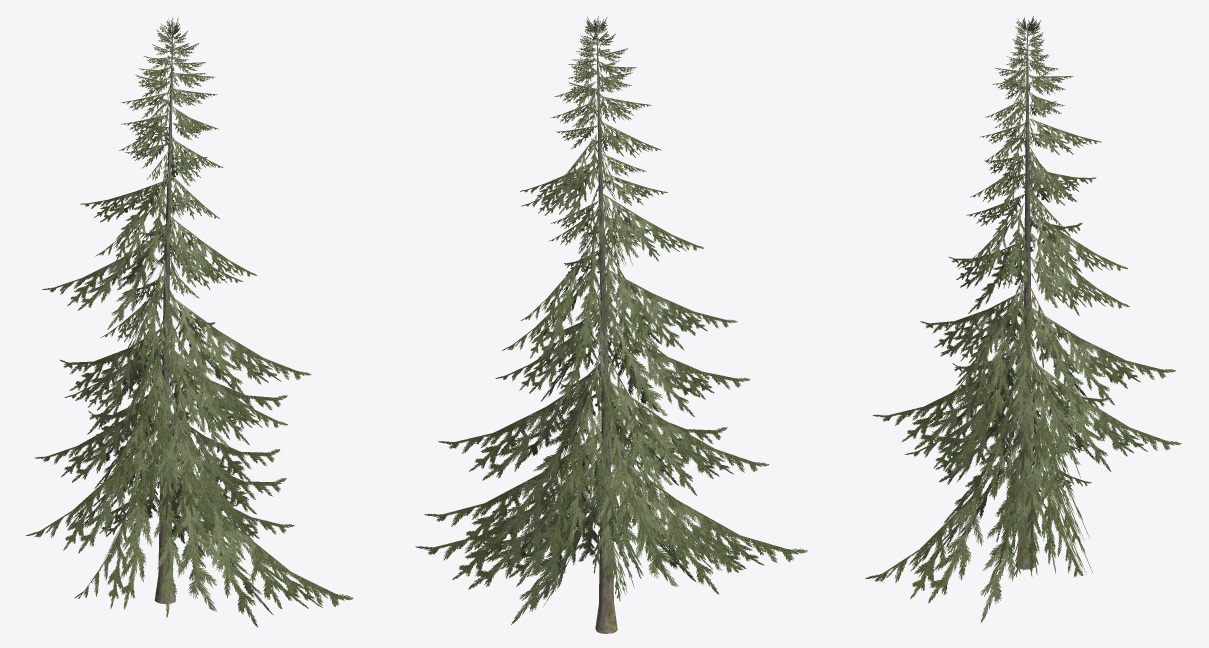
File: spruce_LOD1.fbx
3 views of the same model, side by side, from view 1: azimuth 30°, elevation 25°; view 2: azimuth 150°, elevation 25°; view 3: azimuth 270°, elevation 25° (orthographic). The views are drawn at different scales.
Parts seen in each view (by area): view 1: spruce 2_1, spruce 1_0; view 2: spruce 2_1, spruce 1_0; view 3: spruce 2_1, spruce 1_0.
Boxes of the visible parts, bbox=[...] form: spruce 2_1: bbox=[26, 17, 353, 627]; spruce 1_0: bbox=[154, 27, 175, 603]; spruce 2_1: bbox=[415, 16, 807, 624]; spruce 1_0: bbox=[595, 24, 617, 633]; spruce 2_1: bbox=[865, 16, 1181, 622]; spruce 1_0: bbox=[1016, 23, 1035, 569].
Size of the model in its own units: 117 by 215 by 115.
Materials: 2 (2 with a texture image).
